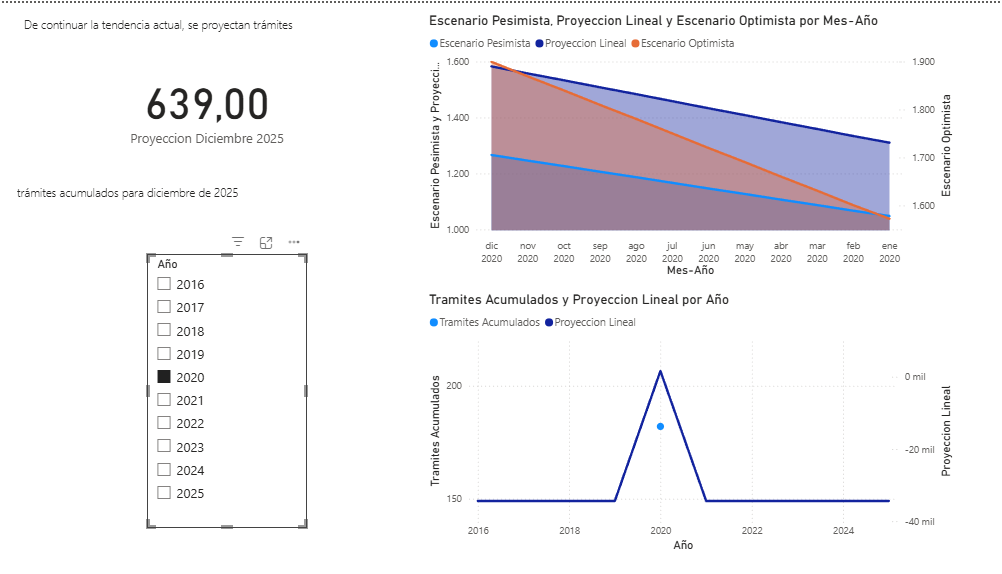

What the dashboard file says about the page in this screenshot:
{"tool":"powerbi","page":{"name":"Proyecciones y Escenarios","canvas":[1280,720],"ordinal":2},"visuals":[{"type":"lineChart","fields":{"Y2":["Calendario.Proyeccion Lineal"],"Y":["Calendario.Tramites Acumulados"],"Category":["Calendario.Date.Variación.Jerarquía de fechas.Año"]},"box":[535,360,663.8,331.2],"z":0},{"type":"card","fields":{"Values":["Calendario.Proyeccion Diciembre 2025"]},"box":[0,17.5,525,225],"z":1000},{"type":"textbox","box":[545,0,432.5,52.5],"z":2000},{"type":"textbox","box":[1246.2,405,33.8,212.5],"z":3000},{"type":"textbox","box":[28.8,11.2,370,57.5],"z":4000},{"type":"textbox","box":[20,221.2,333.8,42.5],"z":5000},{"type":"areaChart","fields":{"Y":["Calendario.Escenario Pesimista","Calendario.Proyeccion Lineal"],"Y2":["Calendario.Escenario Optimista"],"Category":["Calendario.Mes-Año"]},"box":[535,11.2,663.8,336.2],"z":6000},{"type":"slicer","fields":{"Values":["Calendario.Año"]},"box":[187.5,313.8,200,342.5],"z":7000}]}

Visuals, with their boxes in screenshot pixels (x1, y1, x2, y2), scaled from the page's 1280x720 canvas onto the 1002x574 screenshot:
lineChart - Calendario.Proyeccion Lineal x Calendario.Tramites Acumulados: x1=419 y1=287 x2=938 y2=551
card - Calendario.Proyeccion Diciembre 2025: x1=0 y1=14 x2=411 y2=193
textbox: x1=427 y1=0 x2=765 y2=42
textbox: x1=976 y1=323 x2=1001 y2=492
textbox: x1=23 y1=9 x2=312 y2=55
textbox: x1=16 y1=176 x2=277 y2=210
areaChart - Calendario.Escenario Pesimista x Calendario.Proyeccion Lineal: x1=419 y1=9 x2=938 y2=277
slicer - Calendario.Año: x1=147 y1=250 x2=303 y2=523
